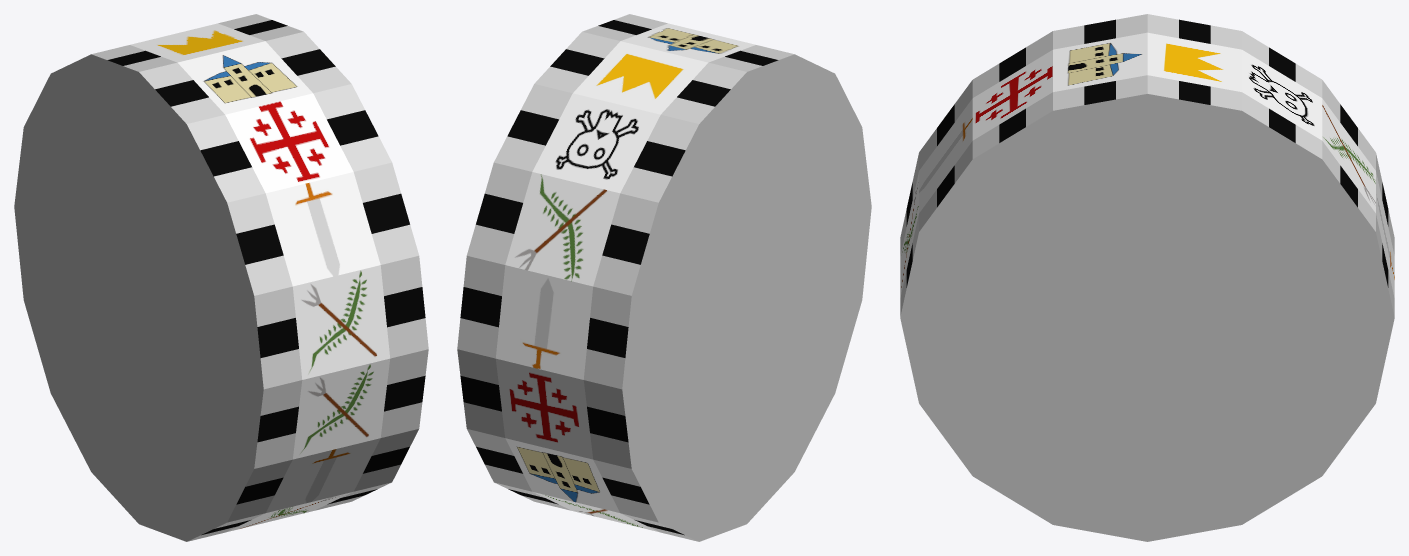
Rendered from Slot Wheel - Royal.glb.
3 views of the same model, side by side, from view 1: azimuth 30°, elevation 25°; view 2: azimuth 150°, elevation 25°; view 3: azimuth 270°, elevation 25° (orthographic).
Parts seen in each view (by area): view 1: Royal Wheel; view 2: Royal Wheel; view 3: Royal Wheel.
Part boxes in pixels (x1,y1,x2,y2): Royal Wheel: (14, 14, 428, 541); Royal Wheel: (457, 14, 871, 541); Royal Wheel: (900, 14, 1394, 541).
Size of the model in its own units: 0.1389 by 0.3639 by 0.3639.
Materials: 8 (6 with a texture image).
